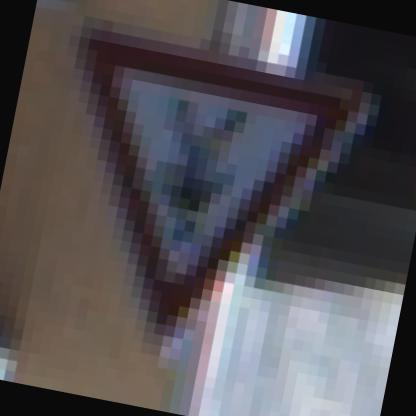crosswalk: (25, 13, 355, 356)
